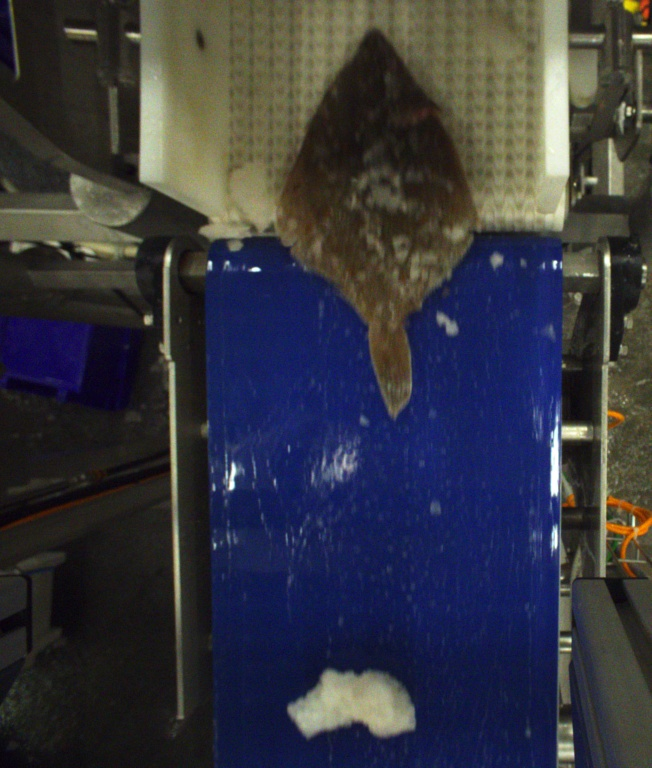PLE: (274, 25, 482, 420)
